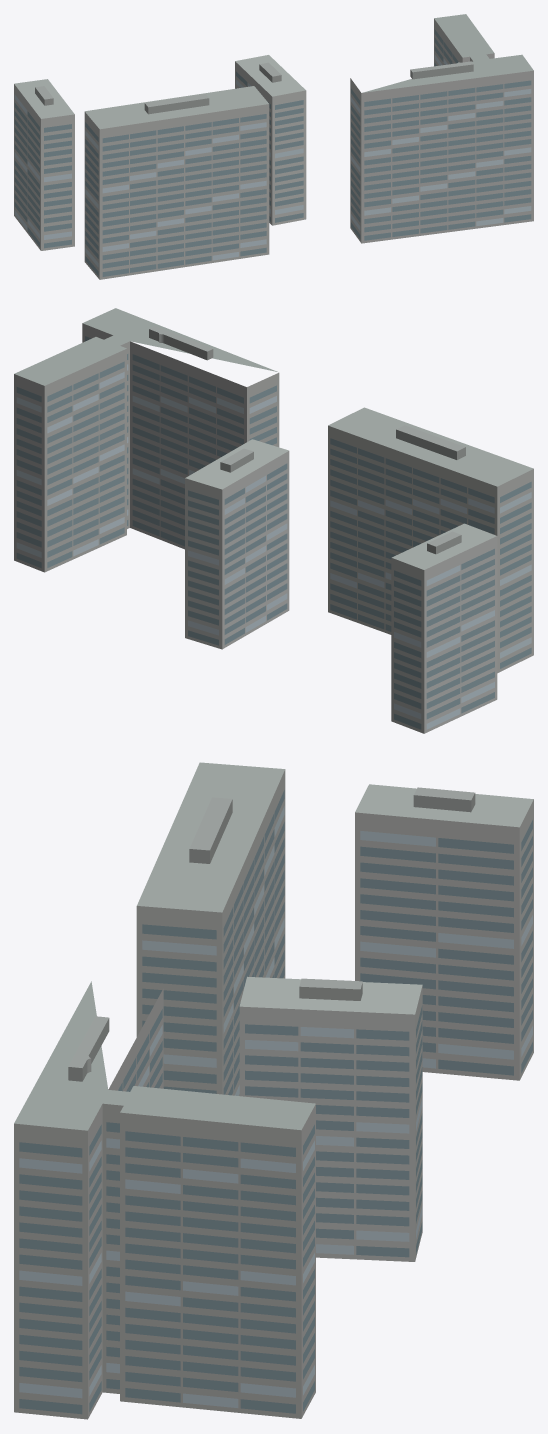
File: apt-a15605102.glb
3 views of the same model, one above another, from view 1: azimuth 30°, elevation 25°; view 2: azimuth 150°, elevation 25°; view 3: azimuth 270°, elevation 25° (orthographic). The views are drawn at different scales.
Visible parts, largest first — view 1: apt-a15605102; view 2: apt-a15605102; view 3: apt-a15605102.
Part boxes in pixels (<box>): apt-a15605102: <box>14,14,533,279</box>; apt-a15605102: <box>14,308,533,733</box>; apt-a15605102: <box>14,762,533,1419</box>.
Size of the model in its own units: 133 by 49 by 76.37.
